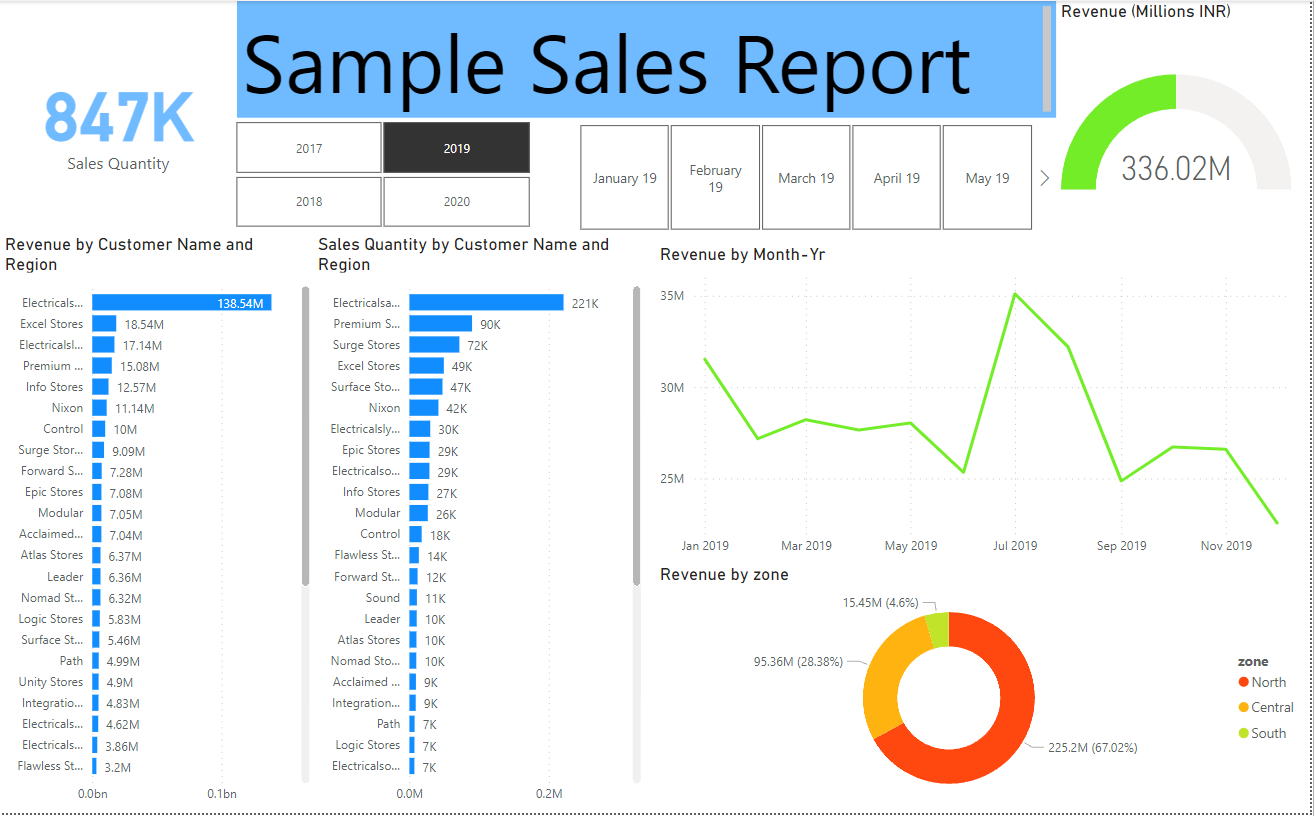

The page's visual inventory and layout, read from the dashboard file:
{"tool":"powerbi","page":{"name":"Page 1","canvas":[1290,800],"ordinal":0},"visuals":[{"type":"gauge","title":"Revenue (Millions INR)","fields":{"Y":["BaseMeasures.Revenue"]},"box":[1040.4,3.9,249.3,203],"z":0},{"type":"card","fields":{"Values":["BaseMeasures.Sales Quantity"]},"box":[0,0,233.5,112.3],"z":1000},{"type":"barChart","title":"Revenue by Customer Name and Region","fields":{"Category":["sales customers.custmer_name","sales markets.markets_name"],"Y":["BaseMeasures.Revenue"]},"box":[0,229.6,310.3,570.4],"z":2000},{"type":"barChart","title":"Sales Quantity by Customer Name and Region","fields":{"Y":["BaseMeasures.Sales Quantity"],"Category":["sales customers.custmer_name","sales markets.markets_name"]},"box":[308.4,229.6,328.1,570.4],"z":3000},{"type":"slicer","fields":{"Values":["sales date.year"]},"box":[206.9,112.3,338.9,117.2],"z":4000},{"type":"slicer","fields":{"Values":["sales date.cy_date"]},"box":[545.8,115.3,494.6,117.2],"z":5000},{"type":"lineChart","title":"Revenue by Month-Yr","fields":{"Y":["BaseMeasures.Revenue"],"Category":["sales date.cy_date"]},"box":[645.3,239.4,644.3,315.3],"z":6000},{"type":"donutChart","fields":{"Category":["sales markets.zone"],"Y":["BaseMeasures.Revenue"]},"box":[636.5,554.7,644.3,245.3],"z":7000},{"type":"textbox","box":[233.5,0,779.3,115.3],"z":8000},{"type":"card","fields":{"Values":["BaseMeasures.Profit Margin"]},"box":[0,119.2,233.5,110.3],"z":9000}]}

Visuals, with their boxes in screenshot pixels (x1, y1, x2, y2), scaled from the page's 1290x800 canvas onto the 1314x816 screenshot:
"Revenue (Millions INR)" gauge: locate(1060, 4, 1313, 211)
card - BaseMeasures.Sales Quantity: locate(0, 0, 238, 115)
"Revenue by Customer Name and Region" barChart: locate(0, 234, 316, 815)
"Sales Quantity by Customer Name and Region" barChart: locate(314, 234, 648, 815)
slicer - sales date.year: locate(211, 115, 556, 234)
slicer - sales date.cy_date: locate(556, 118, 1060, 237)
"Revenue by Month-Yr" lineChart: locate(657, 244, 1313, 566)
donutChart - sales markets.zone x BaseMeasures.Revenue: locate(648, 566, 1305, 815)
textbox: locate(238, 0, 1032, 118)
card - BaseMeasures.Profit Margin: locate(0, 122, 238, 234)
